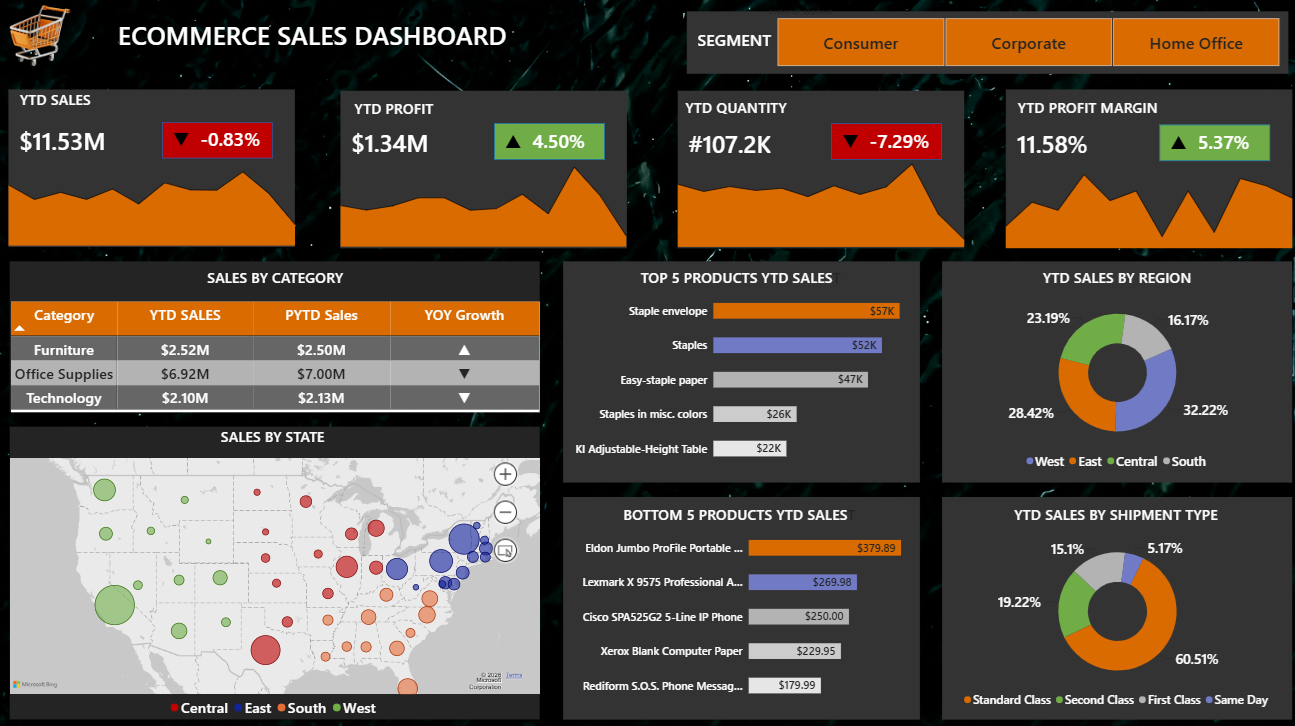

The dashboard page shown, as its layout file describes it:
{"tool":"powerbi","page":{"name":"ECOMMERCE SALES DASHBOARD","canvas":[1920,1080],"ordinal":0},"visuals":[{"type":"image","box":[0,0,116.9,113.1],"z":0},{"type":"textbox","box":[128.4,30.7,668.9,55.6],"z":1000},{"type":"shape","box":[15.3,136.1,421.6,231.9],"z":2000},{"type":"cardVisual","fields":{"Data":["ecommerce_data (2).YTD SALES"]},"box":[15.3,170.6,162.9,82.4],"z":3000},{"type":"textbox","box":[15.3,136.1,138.5,44.7],"z":4000},{"type":"areaChart","fields":{"Y":["Sum(ecommerce_data (2).sales_per_order)"],"Category":["Calender.Month"]},"box":[0,230,452.3,136.1],"z":5000},{"type":"shape","box":[241.5,184,162.9,53.7],"z":6000},{"type":"cardVisual","fields":{"Data":["ecommerce_data (2).YOY Growth"]},"box":[281.7,185.9,122.7,44.1],"z":7000},{"type":"cardVisual","fields":{"Data":["ecommerce_data (2).YOY icon"]},"box":[241.5,185.9,57.5,44.1],"z":8000},{"type":"shape","box":[503.7,138.7,421.6,231.9],"z":9000},{"type":"cardVisual","fields":{"Data":["ecommerce_data (2).YTD PROFIT"]},"box":[503.7,173.2,162.9,82.4],"z":10000},{"type":"textbox","box":[513.7,148.7,138.5,44.7],"z":11000},{"type":"areaChart","fields":{"Category":["Calender.Month"],"Y":["Sum(ecommerce_data (2).profit_per_order)"]},"box":[488.7,237.7,451.2,129.9],"z":12000},{"type":"shape","box":[729.8,186.6,162.9,53.7],"z":13000},{"type":"cardVisual","fields":{"Data":["ecommerce_data (2).YOY PROFIT GROWTH"]},"box":[770.1,188.5,122.7,44.1],"z":14000},{"type":"cardVisual","fields":{"Data":["ecommerce_data (2).PROFIT ICON"]},"box":[729.8,188.5,57.5,44.1],"z":15000},{"type":"shape","box":[999.7,138.7,421.6,231.9],"z":16000},{"type":"cardVisual","fields":{"Data":["ecommerce_data (2).YTD Quantity Concatinated"]},"box":[1000,174,176,82],"z":17000},{"type":"textbox","box":[999.3,147.5,176.1,41.8],"z":18000},{"type":"areaChart","fields":{"Category":["Calender.Month"],"Y":["Sum(ecommerce_data (2).order_quantity)"]},"box":[984.4,232.6,452.3,136.1],"z":19000},{"type":"shape","box":[1225.8,186.6,162.9,53.7],"z":20000},{"type":"cardVisual","fields":{"Data":["ecommerce_data (2).YOY Quantity Growth"]},"box":[1266.1,188.5,122.7,44.1],"z":21000},{"type":"cardVisual","fields":{"Data":["ecommerce_data (2).Quantity icon"]},"box":[1225.8,188.5,57.5,44.1],"z":22000},{"type":"shape","box":[1483.4,136.1,421.6,231.9],"z":23000},{"type":"cardVisual","fields":{"Data":["ecommerce_data (2).YTD Profit Margin"]},"box":[1483.5,174.7,162.9,82.4],"z":24000},{"type":"textbox","box":[1498.7,147.6,210.8,46],"z":25000},{"type":"areaChart","fields":{"Category":["Calender.Month"],"Y":["ecommerce_data (2).Profit Margin"]},"box":[1468.2,234.1,452.3,136.1],"z":26000},{"type":"shape","box":[1709.6,188.1,162.9,53.7],"z":27000},{"type":"cardVisual","fields":{"Data":["ecommerce_data (2).YOY Profit Margin"]},"box":[1749.9,190,122.7,44.1],"z":28000},{"type":"cardVisual","fields":{"Data":["ecommerce_data (2).Profit margin icon"]},"box":[1709.6,190,57.5,44.1],"z":29000},{"type":"shape","box":[17.2,389,780,222.3],"z":30000},{"type":"pivotTable","fields":{"Rows":["ecommerce_data (2).category_name"],"Values":["ecommerce_data (2).YTD SALES","ecommerce_data (2).PYTD Sales","ecommerce_data (2).YOY icon"]},"box":[19.2,448.5,778.1,162.9],"z":31000},{"type":"textbox","box":[278,398,260.6,40.2],"z":32000},{"type":"shape","box":[17.2,632.4,780,431.2],"z":33000},{"type":"map","fields":{"Size":["ecommerce_data (2).YTD SALES"],"Y":["us_state_long_lat_codes.latitude"],"X":["us_state_long_lat_codes.longitude"],"Series":["ecommerce_data (2).customer_region"]},"box":[17.2,678.4,780,385.2],"z":34000},{"type":"textbox","box":[302.9,632.9,203.1,46],"z":35000},{"type":"shape","box":[831.8,389,525.1,325.8],"z":36000},{"type":"shape","box":[831.8,735.9,525.1,327.7],"z":37000},{"type":"shape","box":[1389.5,735.9,515.5,327.7],"z":38000},{"type":"shape","box":[1389.5,389,515.5,325.8],"z":39000},{"type":"barChart","fields":{"Category":["ecommerce_data (2).product_name"],"Y":["ecommerce_data (2).YTD SALES"]},"box":[831.8,408.2,525.1,306.6],"z":40000},{"type":"barChart","fields":{"Category":["ecommerce_data (2).product_name"],"Y":["ecommerce_data (2).YTD SALES"]},"box":[831.8,757,525.1,306.6],"z":41000},{"type":"textbox","box":[942,398,300.9,40.2],"z":42000},{"type":"textbox","box":[910.3,747.4,362.2,40.2],"z":43000},{"type":"donutChart","fields":{"Category":["ecommerce_data (2).customer_region"],"Y":["ecommerce_data (2).YTD SALES"]},"box":[1390,428,516,288],"z":44000},{"type":"textbox","box":[1484,398,328,50],"z":45000},{"type":"donutChart","fields":{"Y":["ecommerce_data (2).YTD SALES"],"Category":["ecommerce_data (2).shipping_type"]},"box":[1390,778,516,288],"z":46000},{"type":"textbox","box":[1482,748,328,50],"z":47000},{"type":"shape","box":[1013.8,21.1,885.4,92],"z":48000},{"type":"slicer","fields":{"Values":["ecommerce_data (2).customer_segment"]},"box":[1126.9,15.3,778.1,88.2],"z":49000},{"type":"textbox","box":[998.8,46.2,170.6,47.9],"z":50000}]}

Visuals, with their boxes in screenshot pixels (x1, y1, x2, y2), scaled from the page's 1920x1080 canvas onto the 1295x726 screenshot:
image: (0, 0, 79, 76)
textbox: (87, 21, 538, 58)
shape: (10, 91, 295, 247)
cardVisual - ecommerce_data (2).YTD SALES: (10, 115, 120, 170)
textbox: (10, 91, 104, 122)
areaChart - Sum(ecommerce_data (2).sales_per_order) x Calender.Month: (0, 155, 305, 246)
shape: (163, 124, 273, 160)
cardVisual - ecommerce_data (2).YOY Growth: (190, 125, 273, 155)
cardVisual - ecommerce_data (2).YOY icon: (163, 125, 202, 155)
shape: (340, 93, 624, 249)
cardVisual - ecommerce_data (2).YTD PROFIT: (340, 116, 450, 172)
textbox: (346, 100, 440, 130)
areaChart - Calender.Month x Sum(ecommerce_data (2).profit_per_order): (330, 160, 634, 247)
shape: (492, 125, 602, 162)
cardVisual - ecommerce_data (2).YOY PROFIT GROWTH: (519, 127, 602, 156)
cardVisual - ecommerce_data (2).PROFIT ICON: (492, 127, 531, 156)
shape: (674, 93, 959, 249)
cardVisual - ecommerce_data (2).YTD Quantity Concatinated: (674, 117, 793, 172)
textbox: (674, 99, 793, 127)
areaChart - Calender.Month x Sum(ecommerce_data (2).order_quantity): (664, 156, 969, 248)
shape: (827, 125, 937, 162)
cardVisual - ecommerce_data (2).YOY Quantity Growth: (854, 127, 937, 156)
cardVisual - ecommerce_data (2).Quantity icon: (827, 127, 866, 156)
shape: (1001, 91, 1285, 247)
cardVisual - ecommerce_data (2).YTD Profit Margin: (1001, 117, 1110, 173)
textbox: (1011, 99, 1153, 130)
areaChart - Calender.Month x ecommerce_data (2).Profit Margin: (990, 157, 1294, 249)
shape: (1153, 126, 1263, 163)
cardVisual - ecommerce_data (2).YOY Profit Margin: (1180, 128, 1263, 157)
cardVisual - ecommerce_data (2).Profit margin icon: (1153, 128, 1192, 157)
shape: (12, 261, 538, 411)
pivotTable - ecommerce_data (2).category_name x ecommerce_data (2).YTD SALES: (13, 301, 538, 411)
textbox: (188, 268, 363, 295)
shape: (12, 425, 538, 715)
map - ecommerce_data (2).YTD SALES x us_state_long_lat_codes.latitude: (12, 456, 538, 715)
textbox: (204, 425, 341, 456)
shape: (561, 261, 915, 481)
shape: (561, 495, 915, 715)
shape: (937, 495, 1285, 715)
shape: (937, 261, 1285, 481)
barChart - ecommerce_data (2).product_name x ecommerce_data (2).YTD SALES: (561, 274, 915, 481)
barChart - ecommerce_data (2).product_name x ecommerce_data (2).YTD SALES: (561, 509, 915, 715)
textbox: (635, 268, 838, 295)
textbox: (614, 502, 858, 529)
donutChart - ecommerce_data (2).customer_region x ecommerce_data (2).YTD SALES: (938, 288, 1286, 481)
textbox: (1001, 268, 1222, 301)
donutChart - ecommerce_data (2).YTD SALES x ecommerce_data (2).shipping_type: (938, 523, 1286, 717)
textbox: (1000, 503, 1221, 536)
shape: (684, 14, 1281, 76)
slicer - ecommerce_data (2).customer_segment: (760, 10, 1285, 70)
textbox: (674, 31, 789, 63)
